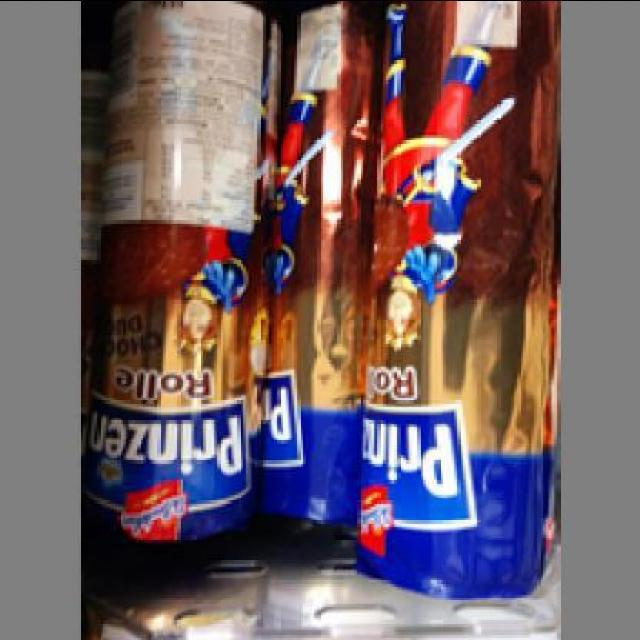Merendine: (348, 3, 550, 603), (84, 3, 268, 546), (254, 3, 366, 557)
